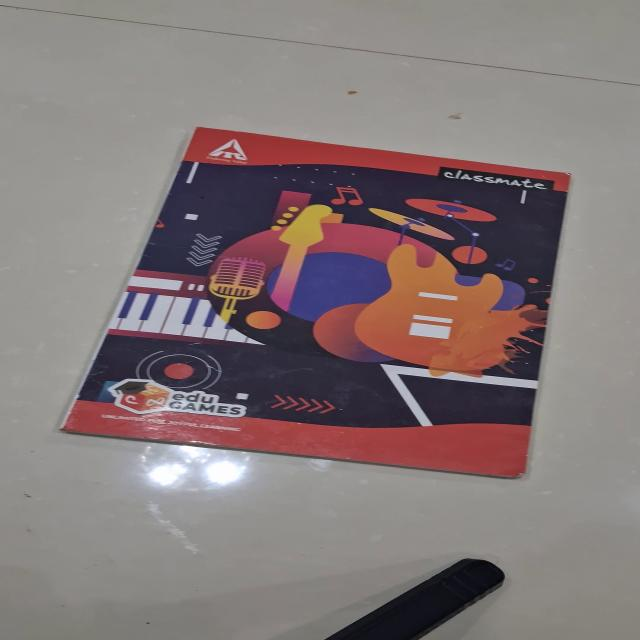paper: (57, 126, 572, 478)
